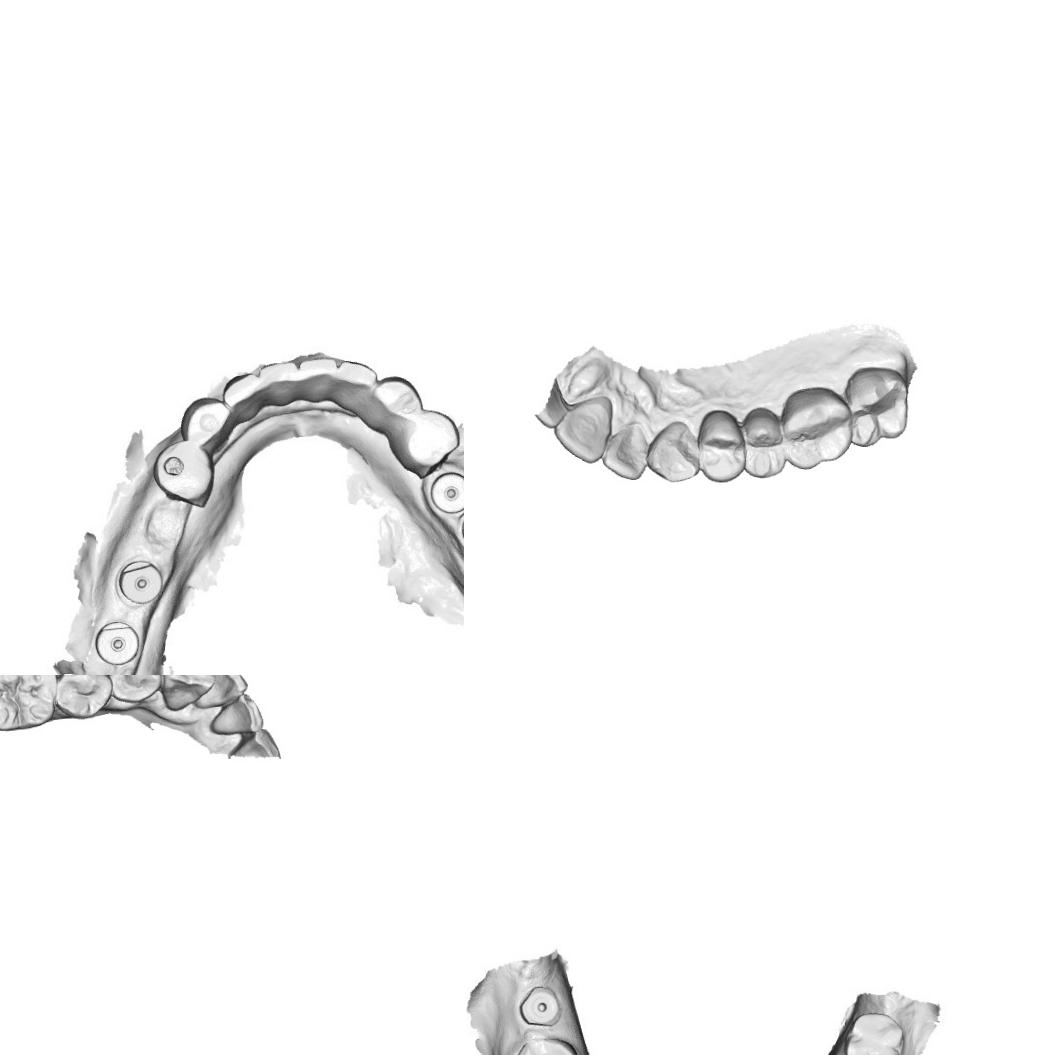canine: (645, 420, 697, 486), (368, 375, 424, 431), (177, 396, 230, 454), (158, 675, 215, 713)
implant: (116, 556, 165, 606), (93, 619, 141, 667), (518, 983, 560, 1027), (426, 470, 464, 514)
incisor: (554, 406, 610, 466), (597, 423, 648, 485), (207, 690, 265, 736), (194, 675, 249, 710), (295, 353, 339, 394), (334, 361, 380, 399), (222, 369, 262, 411), (259, 358, 297, 395)
molar: (778, 386, 850, 475), (840, 364, 911, 450), (0, 675, 56, 733), (843, 1012, 904, 1055), (510, 1035, 586, 1055)
premolar: (392, 405, 460, 476), (153, 438, 213, 506), (694, 410, 743, 486), (737, 407, 786, 480), (53, 675, 113, 721), (108, 675, 161, 706)
